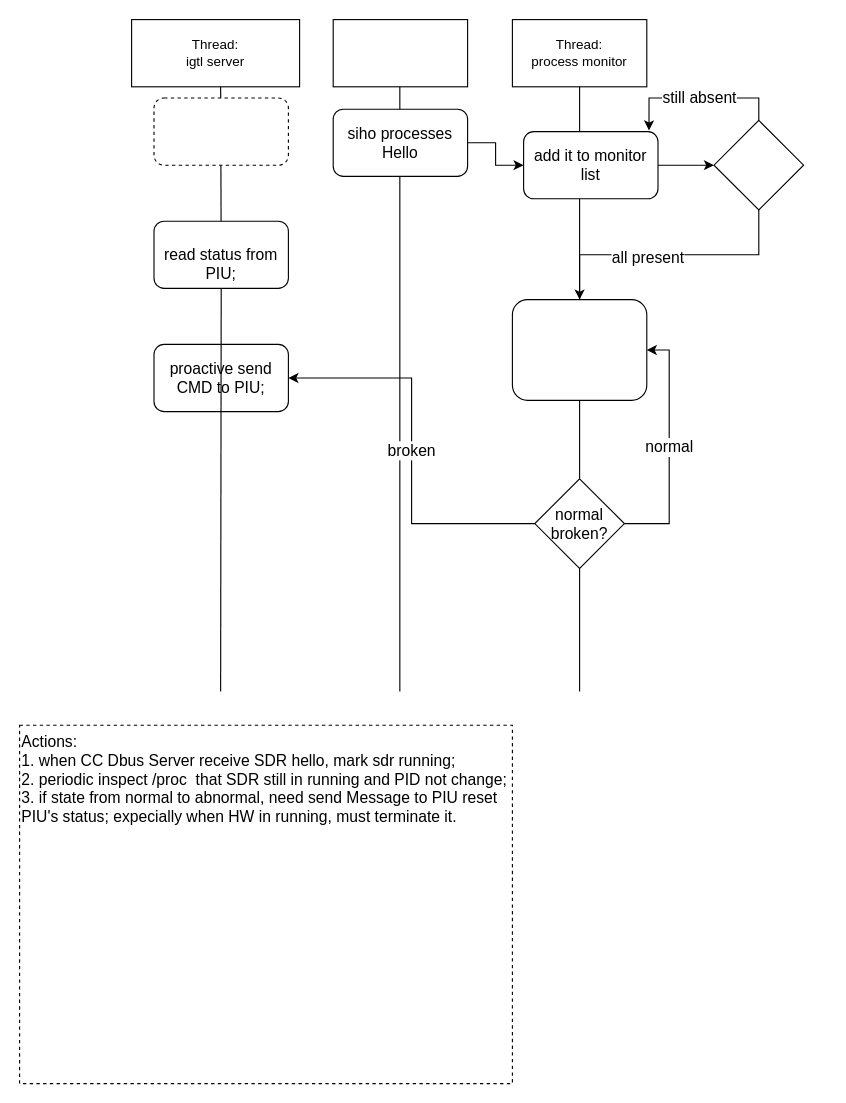
This 846x1103 diagram has some shape labels left out. The box of each missing label's shape, as (x1, y1, x2, y2) in pixels:
*send RST to PIU On first PIU connection.: (153, 97, 288, 165)
all process in list?: (713, 119, 804, 210)
periodic inspect /proc that SDR still in running and PID not change;: (511, 298, 647, 400)
Thread: dbus server: (332, 18, 468, 87)
